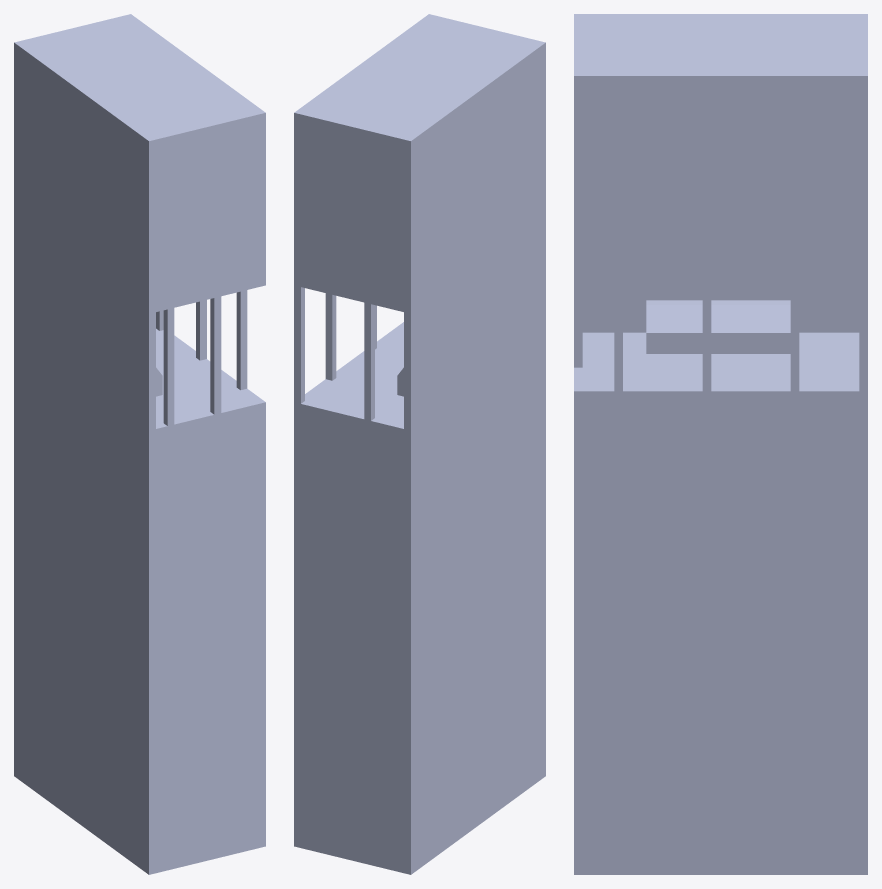
Rendered from Building.FBX.
The picture shows the model from 3 angles, left to right: view 1: azimuth 30°, elevation 25°; view 2: azimuth 150°, elevation 25°; view 3: azimuth 270°, elevation 25°; orthographic projection. The views are drawn at different scales.
Visible parts, largest first — view 1: Boss-Extrude5; view 2: Boss-Extrude5; view 3: Boss-Extrude5.
Part boxes in pixels (x1,y1,x2,y2): Boss-Extrude5: (14, 14, 265, 874); Boss-Extrude5: (294, 14, 545, 874); Boss-Extrude5: (574, 14, 867, 874).
Bounding box in the file's own units: 1969 × 11811 × 3937.
